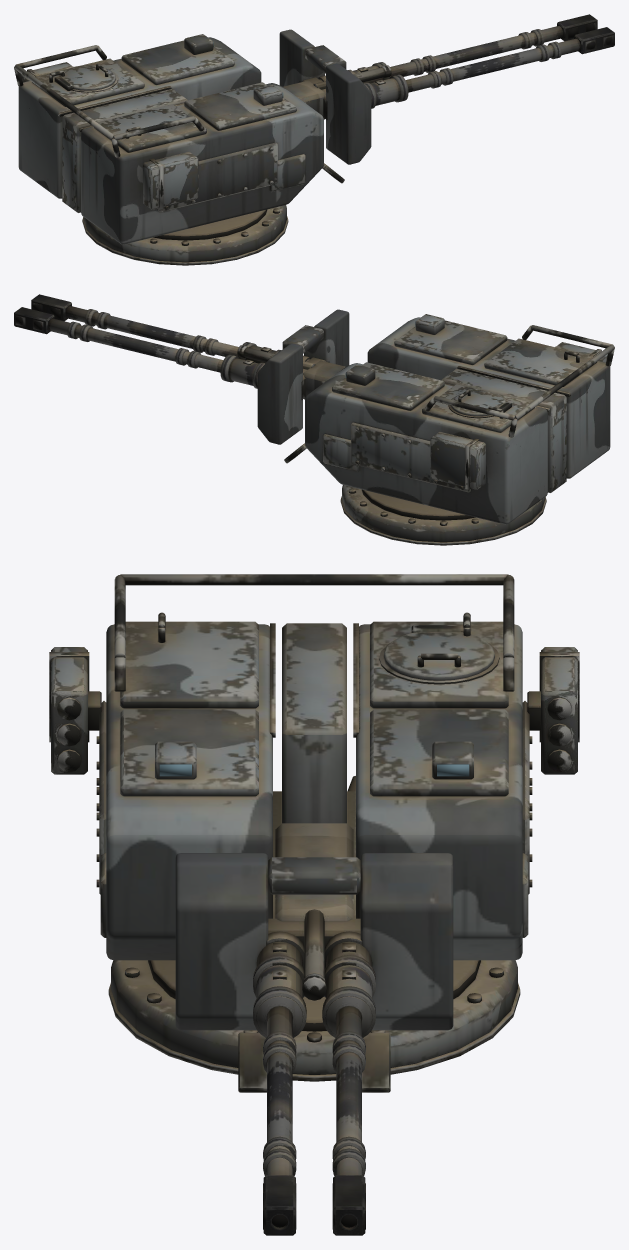
File: turret_kit_t2_shark.glb
3 views of the same model, one above another, from view 1: azimuth 30°, elevation 25°; view 2: azimuth 150°, elevation 25°; view 3: azimuth 270°, elevation 25° (orthographic). The views are drawn at different scales.
Visible parts, largest first — view 1: turret_twin_t2, guns, pods; view 2: turret_twin_t2, guns, pods; view 3: turret_twin_t2, guns, pods.
Part boxes in pixels (<box>): turret_twin_t2: <box>14,29,371,265</box>; guns: <box>283,14,614,119</box>; pods: <box>21,62,198,209</box>; turret_twin_t2: <box>257,309,614,545</box>; guns: <box>14,294,345,399</box>; pods: <box>430,342,607,489</box>; turret_twin_t2: <box>96,574,532,1092</box>; guns: <box>253,823,375,1235</box>; pods: <box>49,647,579,774</box>.
Size of the model in its own units: 2.7 by 0.722 by 1.15.
4 materials, 3 textured.
